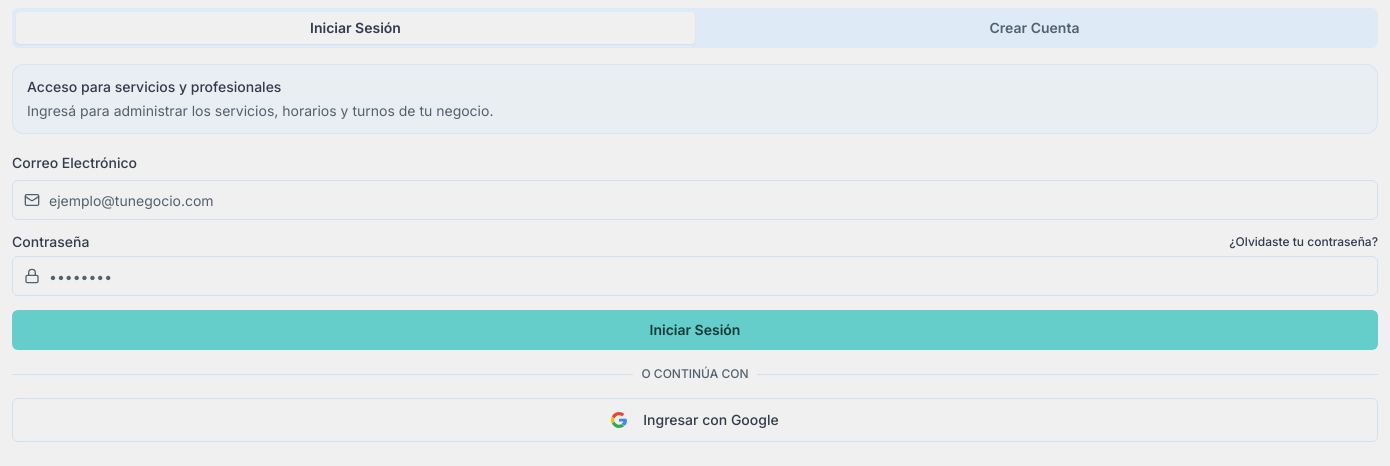
Test: AuthForm › asks for an explicit modality when Google login has no business profile
Step 1. Click the button "Ingresar con Google" → coordinates (695, 420), box x1=12 y1=398 x2=1378 y2=442
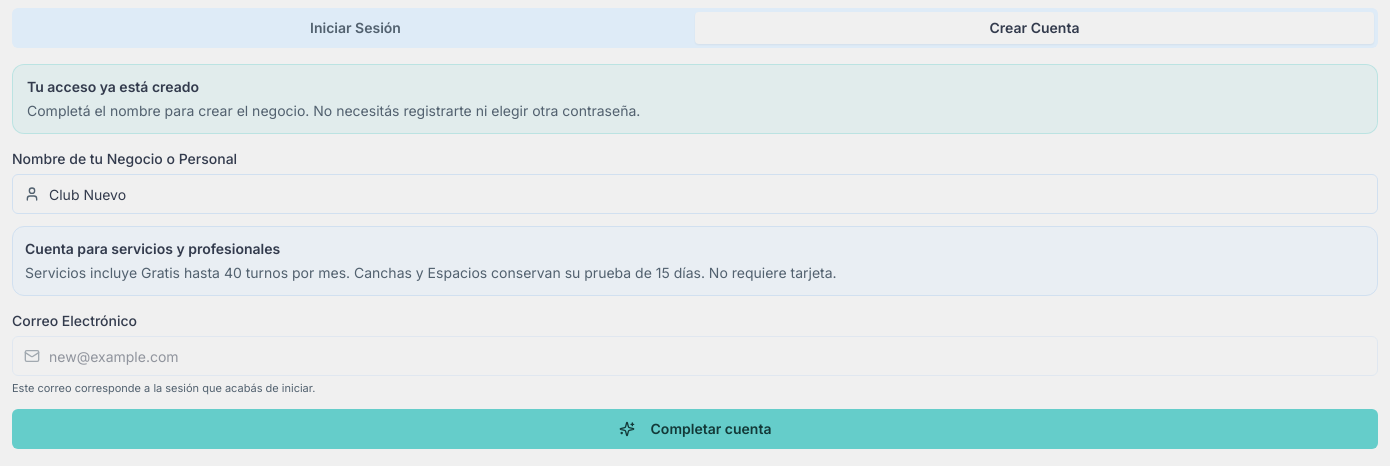
Now the text "Tu acceso ya está creado" is shown, box x1=27 y1=78 x2=199 y2=95
Now the label labelled "Contraseña" is gone
Now the field labelled "Correo Electrónico" is disabled, box x1=12 y1=336 x2=1378 y2=376
